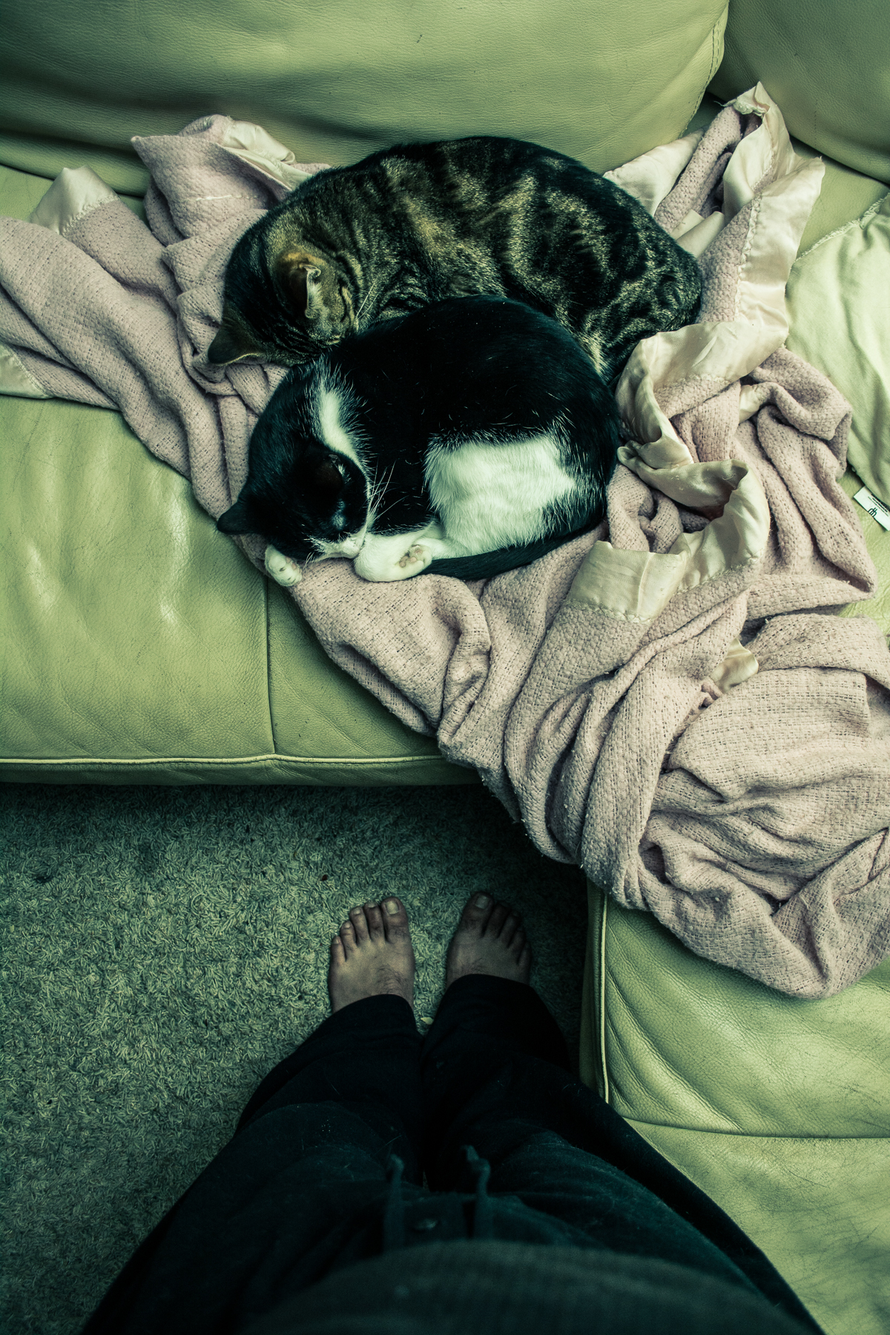cat: (208, 127, 710, 375), (215, 295, 628, 590)
